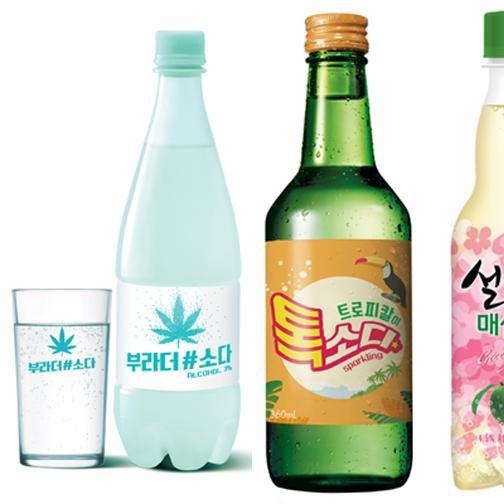soju: (260, 13, 419, 494)
